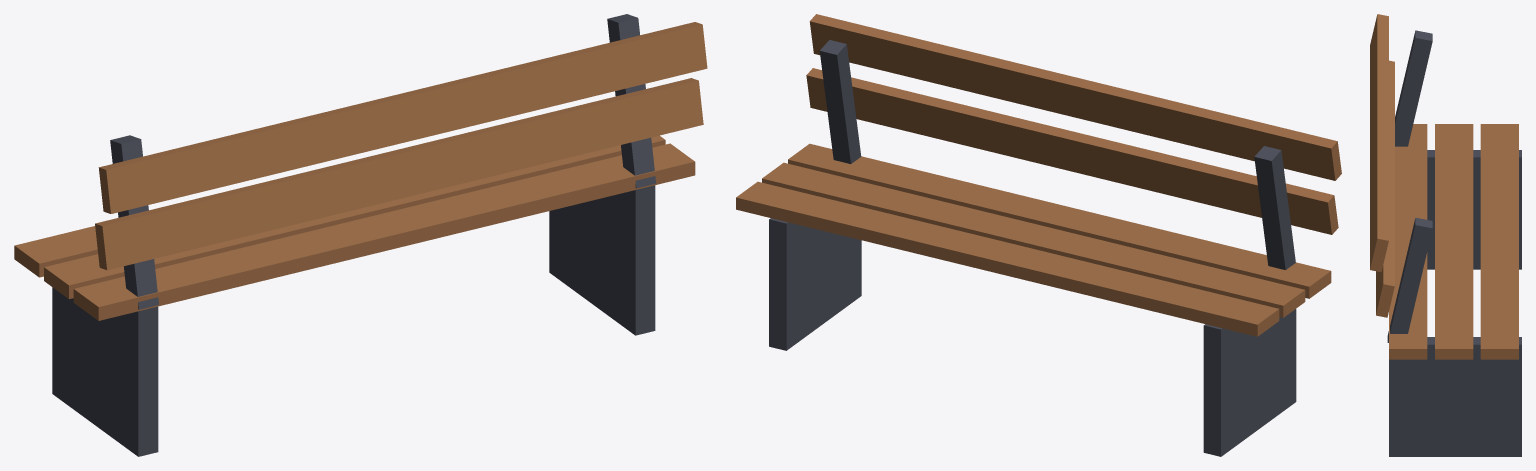
File: bench.glb
The picture shows the model from 3 angles, left to right: view 1: azimuth 30°, elevation 25°; view 2: azimuth 150°, elevation 25°; view 3: azimuth 270°, elevation 25°; orthographic projection. The views are drawn at different scales.
Visible parts, largest first — view 1: bench; view 2: bench; view 3: bench.
Part boxes in pixels (x1,y1,x2,y2): bench: [14, 14, 707, 456]; bench: [736, 14, 1341, 456]; bench: [1370, 14, 1521, 456].
Size of the model in its own units: 1.8 by 0.8715 by 0.5146.
